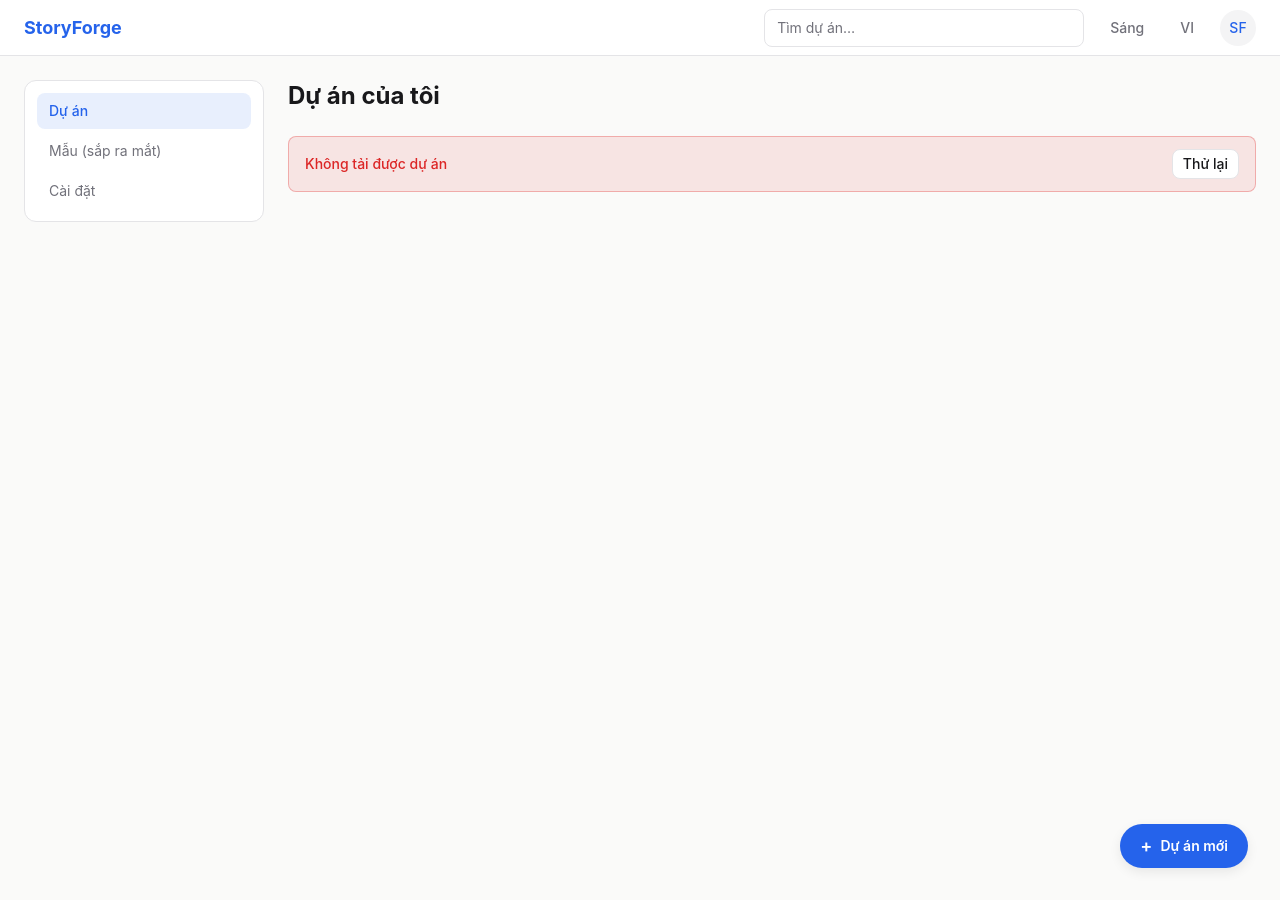
Scenario: DashboardPage › shows error and retries
Expected: the text "Không tải được dự án" is shown, left=305, top=154, right=447, bottom=174
Click the button "Thử lại" at (1205, 164), box left=1172, top=149, right=1239, bottom=179
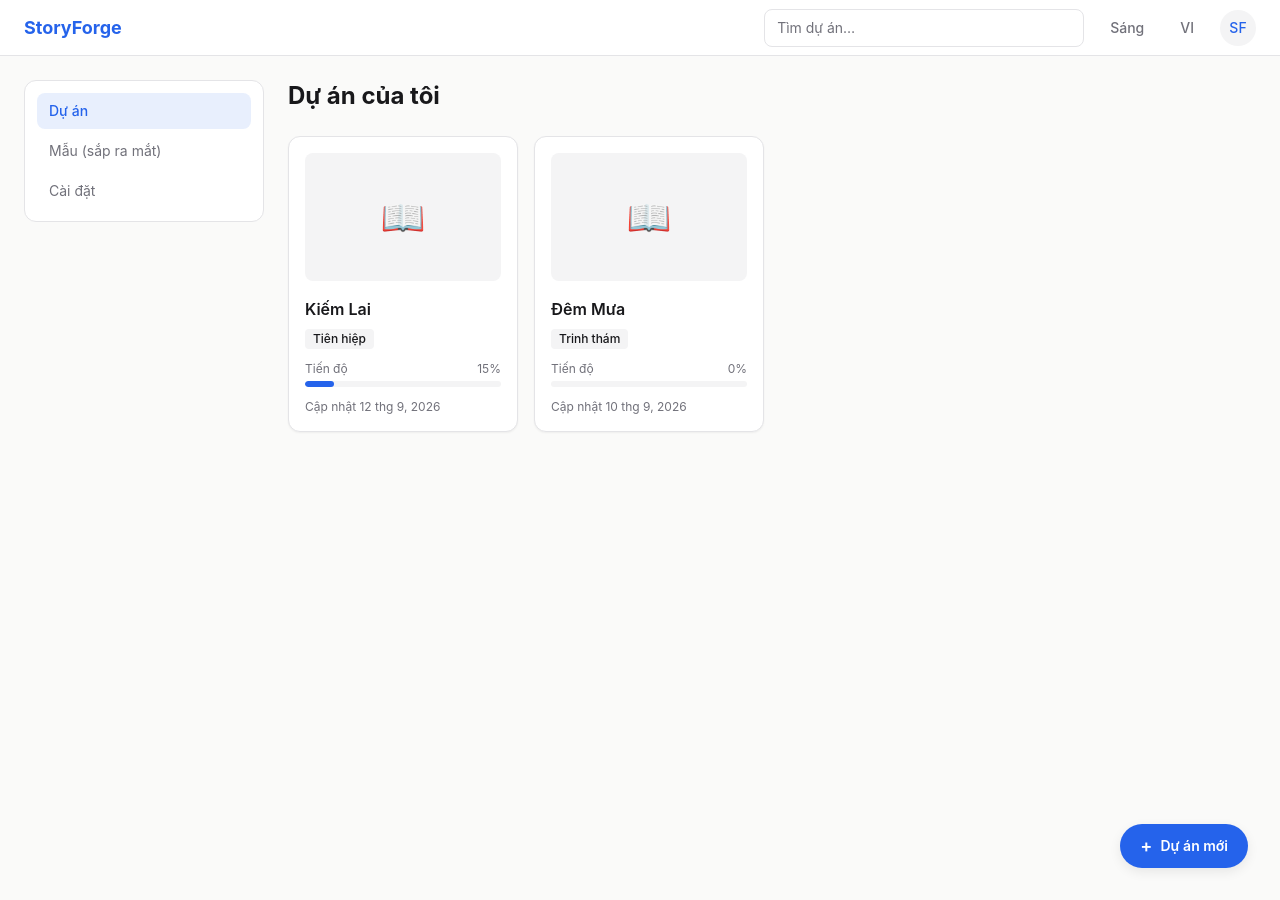
Now the text "Kiếm Lai" is shown, box left=305, top=299, right=371, bottom=319
